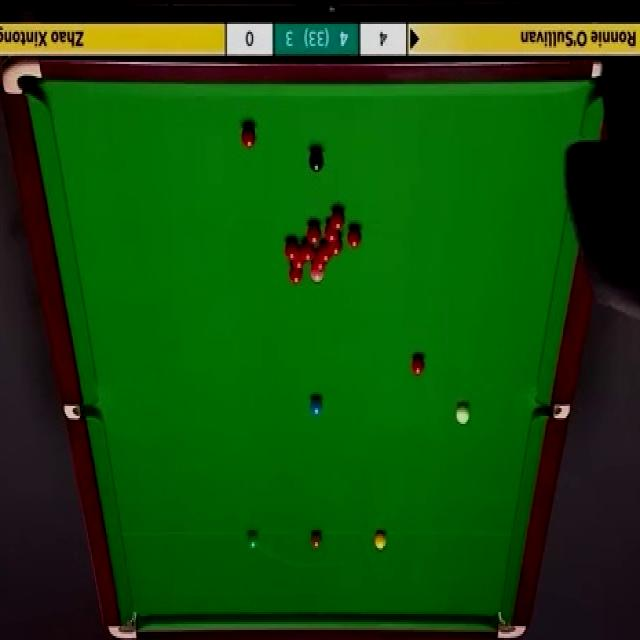pocket: (2, 57, 42, 96), (496, 610, 528, 640), (107, 608, 138, 638), (536, 400, 570, 419), (64, 399, 98, 418), (590, 61, 602, 100)
